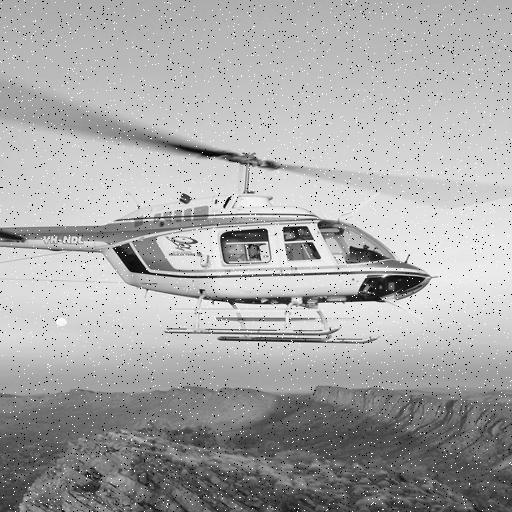helicopter: (1, 80, 510, 343)
